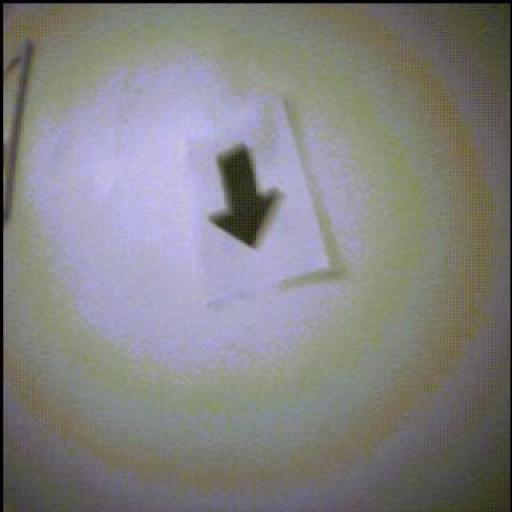arrow: (211, 145, 281, 247), (4, 41, 35, 227)
